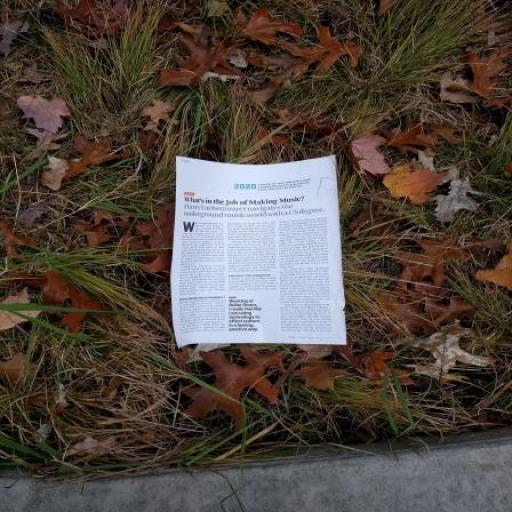paper: (125, 143, 398, 382)
